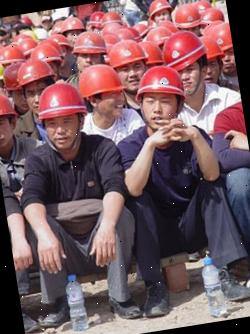helmet: (32, 78, 88, 126), (132, 64, 186, 106), (164, 28, 212, 75), (76, 61, 128, 102), (105, 37, 150, 71), (14, 56, 57, 89), (69, 29, 108, 60), (170, 2, 204, 31), (197, 30, 226, 62), (206, 20, 233, 52), (26, 41, 62, 65), (137, 36, 164, 66), (145, 24, 176, 44), (0, 89, 16, 121), (58, 16, 84, 35), (147, 0, 173, 18), (99, 9, 123, 28)
no_wear: (121, 128, 213, 211), (23, 141, 122, 218)
